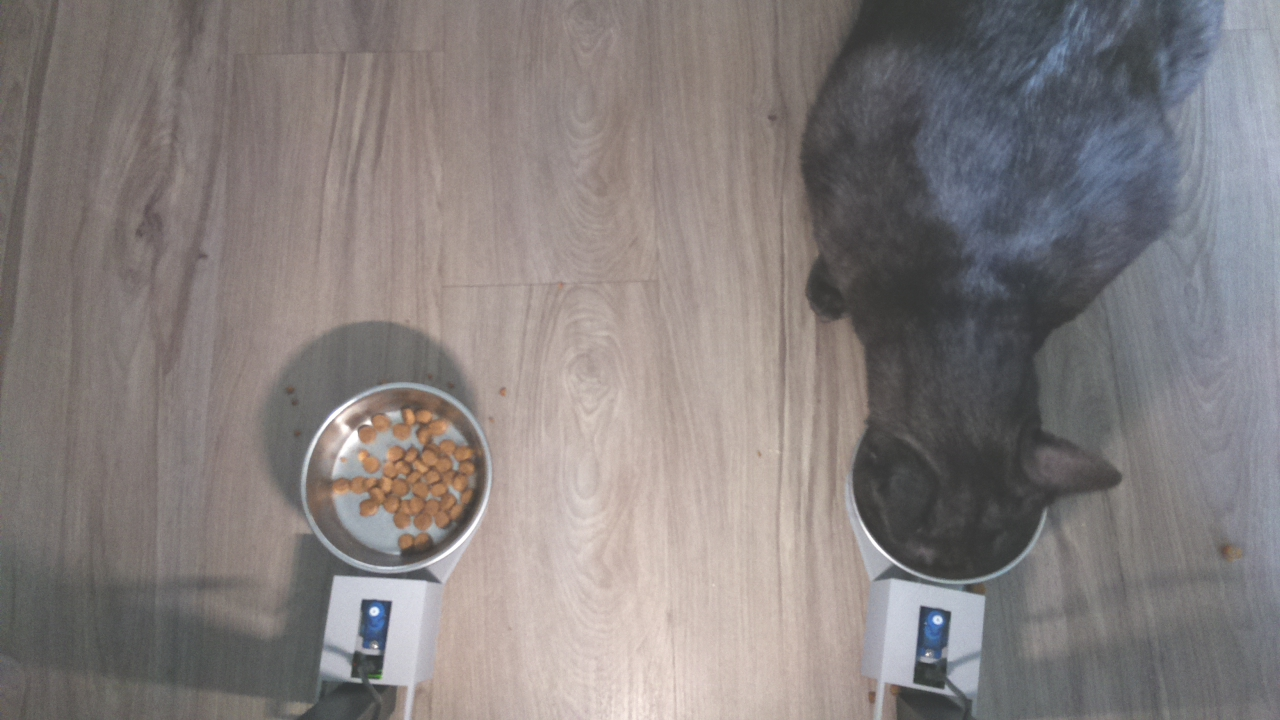open_bowl: (298, 376, 504, 572)
saki_eating: (830, 369, 1123, 583)
